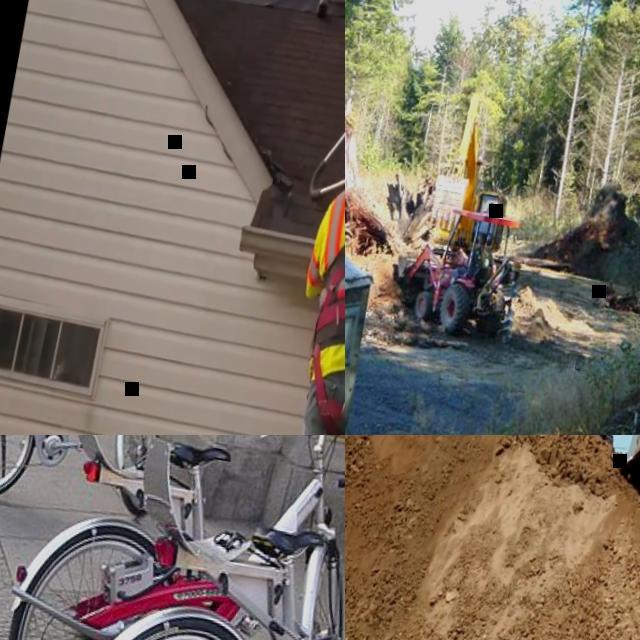machinery: (404, 89, 530, 264), (384, 198, 531, 346), (428, 435, 640, 505)
person: (239, 69, 345, 435), (314, 0, 345, 32), (484, 203, 496, 216)
vest: (292, 167, 345, 367), (484, 208, 494, 216)
